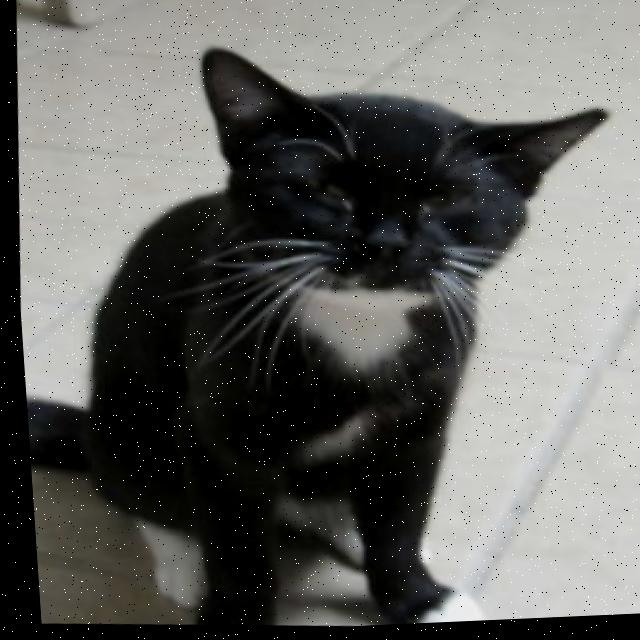Tuxedo: (2, 19, 640, 640)
